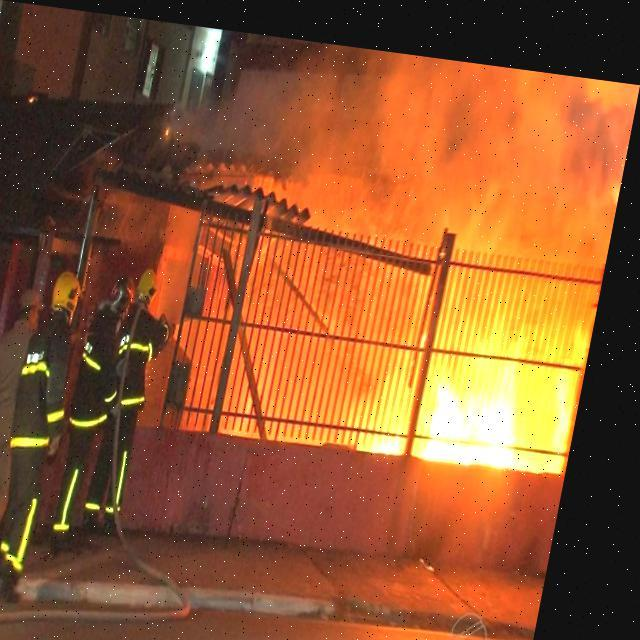Fire: (382, 305, 597, 462)
